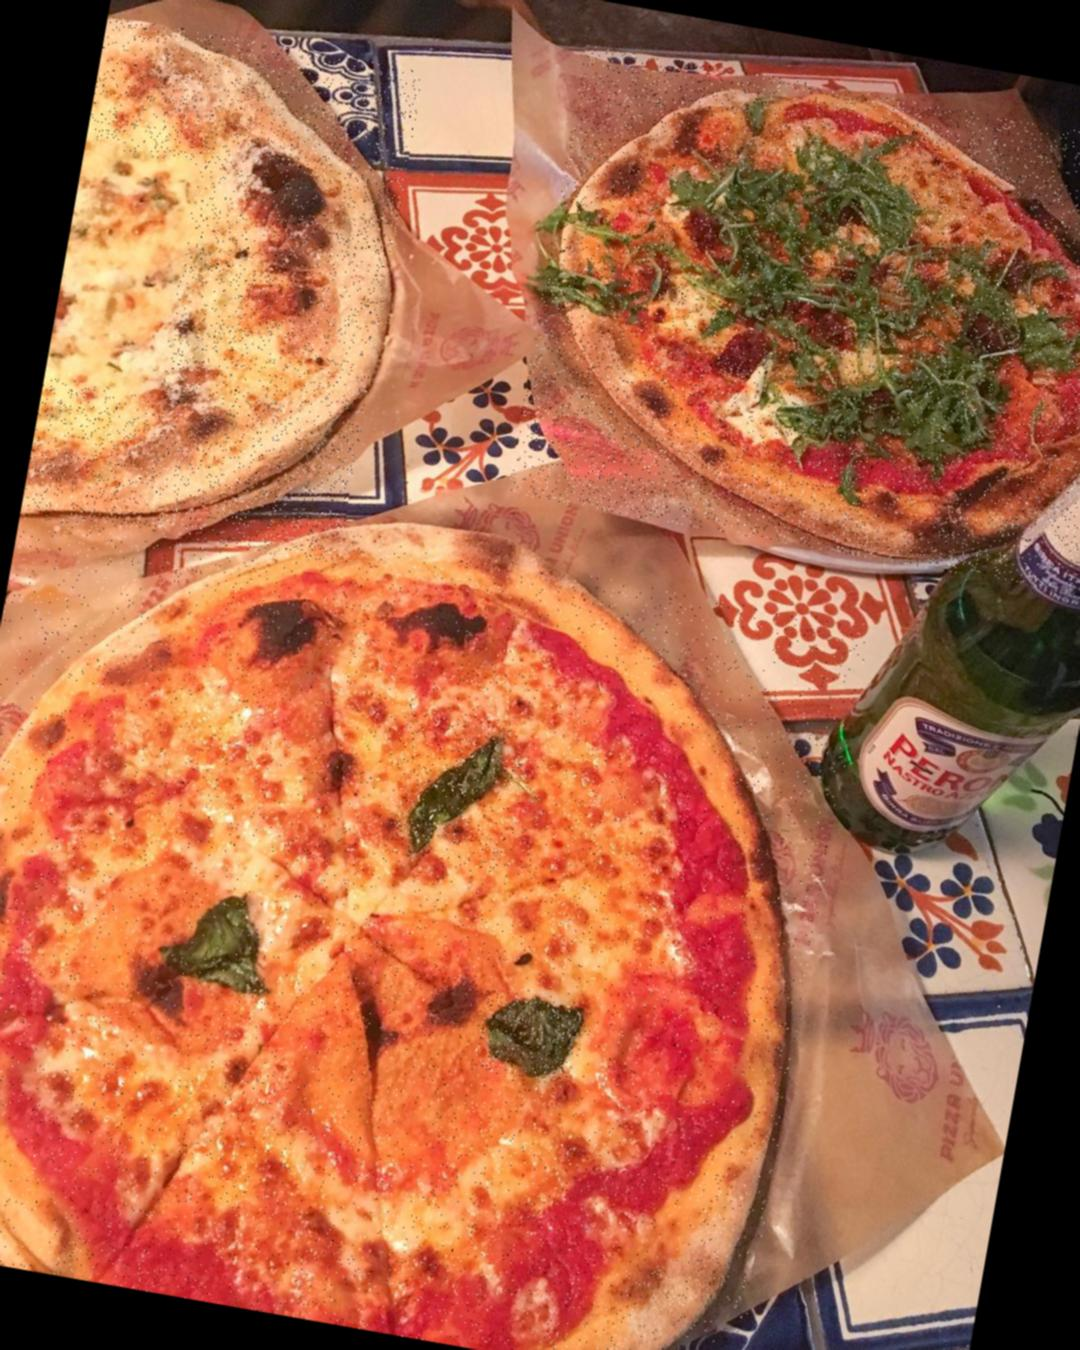Basil: (659, 149, 884, 341), (877, 259, 1067, 465), (385, 704, 526, 872), (764, 350, 893, 464), (152, 881, 276, 998), (473, 992, 584, 1090)
Cheese: (44, 145, 199, 396)
Pizza: (0, 475, 870, 1350), (506, 44, 1080, 596), (21, 17, 424, 566)
